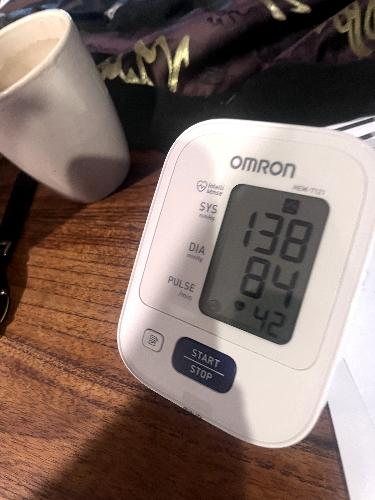bpm: (190, 173, 333, 351)
